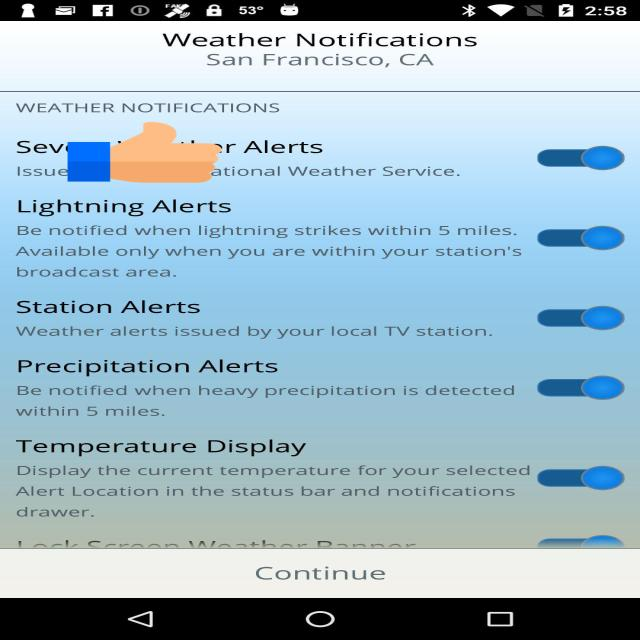privacy zuckering: (67, 120, 222, 184)
